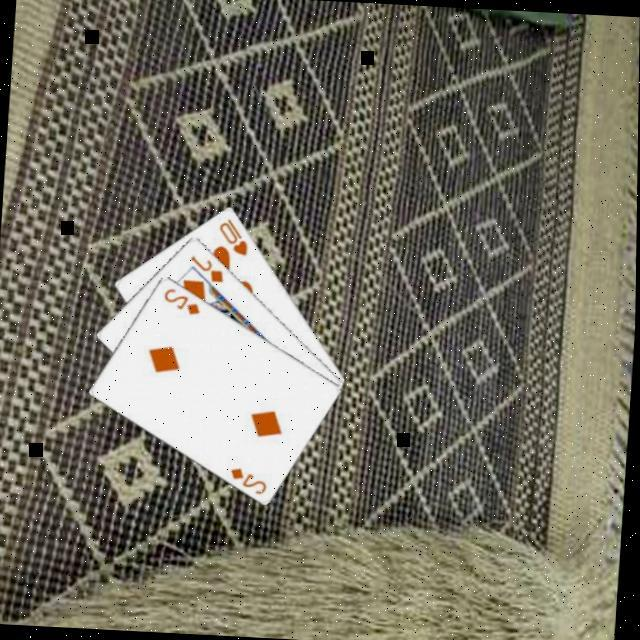10H: (216, 216, 254, 260)
2D: (230, 464, 274, 498), (163, 286, 207, 318)
JD: (188, 253, 230, 286)
